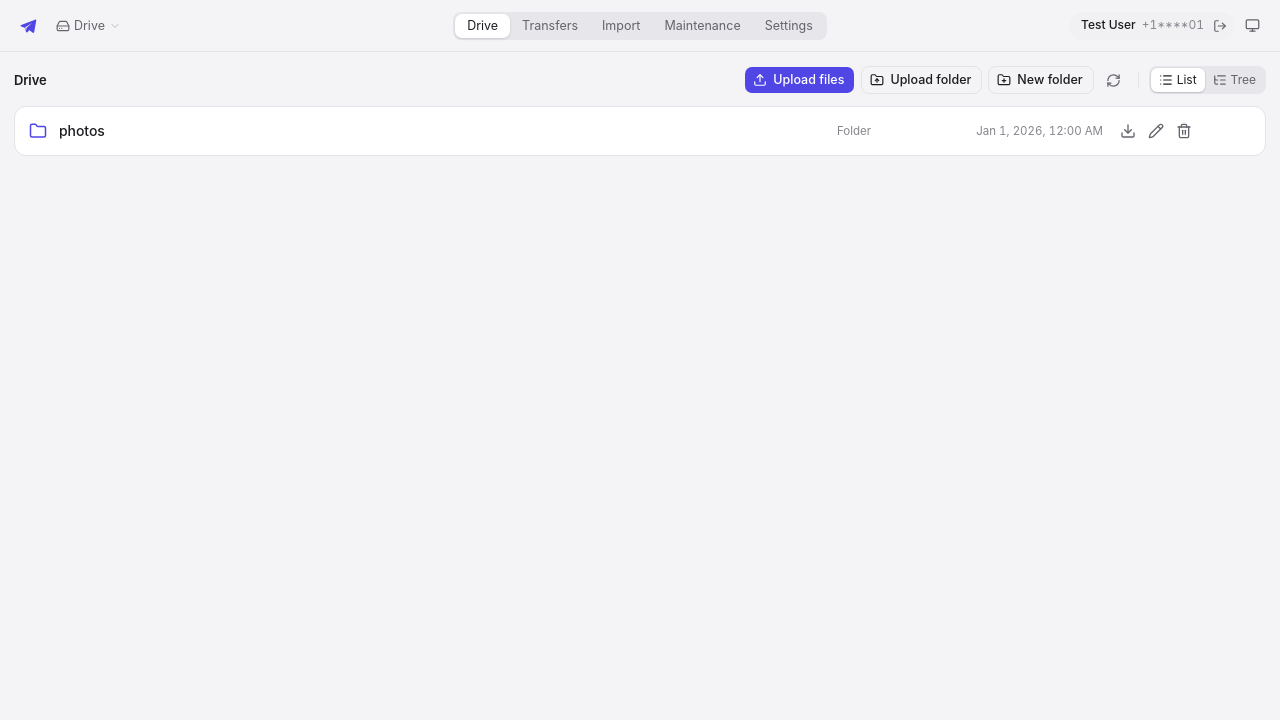
it: a folder download offers auto-rename and continuing past failures
Expected: the list is shown, x1=14 y1=106 x2=1266 y2=156
What coordinates should you click on to do the following:
click the button named "Download"
I would click on:
 (1128, 131)
Its box is x1=1115 y1=118 x2=1141 y2=144.
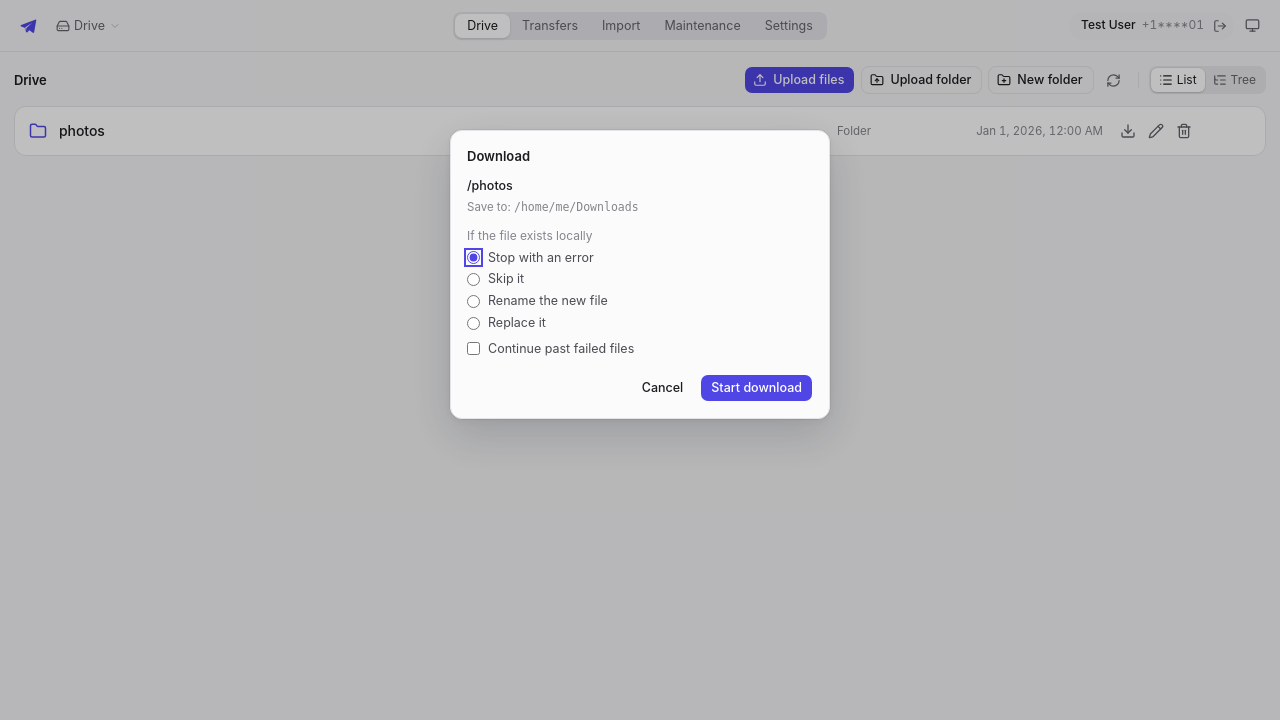
What coordinates should you click on to do the following:
click the radio button labelled "Rename the new file"
I would click on:
 (474, 301)
Its box is x1=467 y1=295 x2=480 y2=308.
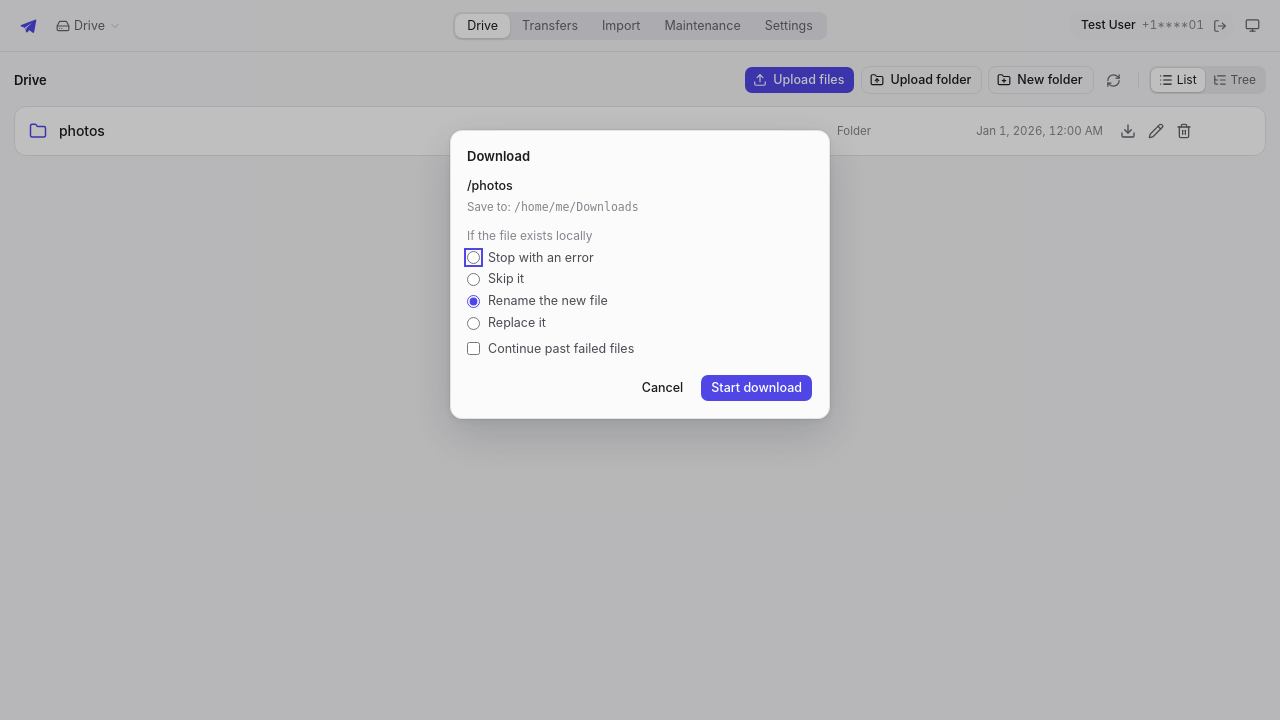
What coordinates should you click on to do the following:
click the checkbox labelled "Continue past failed files"
I would click on:
 (474, 349)
Its box is x1=467 y1=342 x2=480 y2=355.
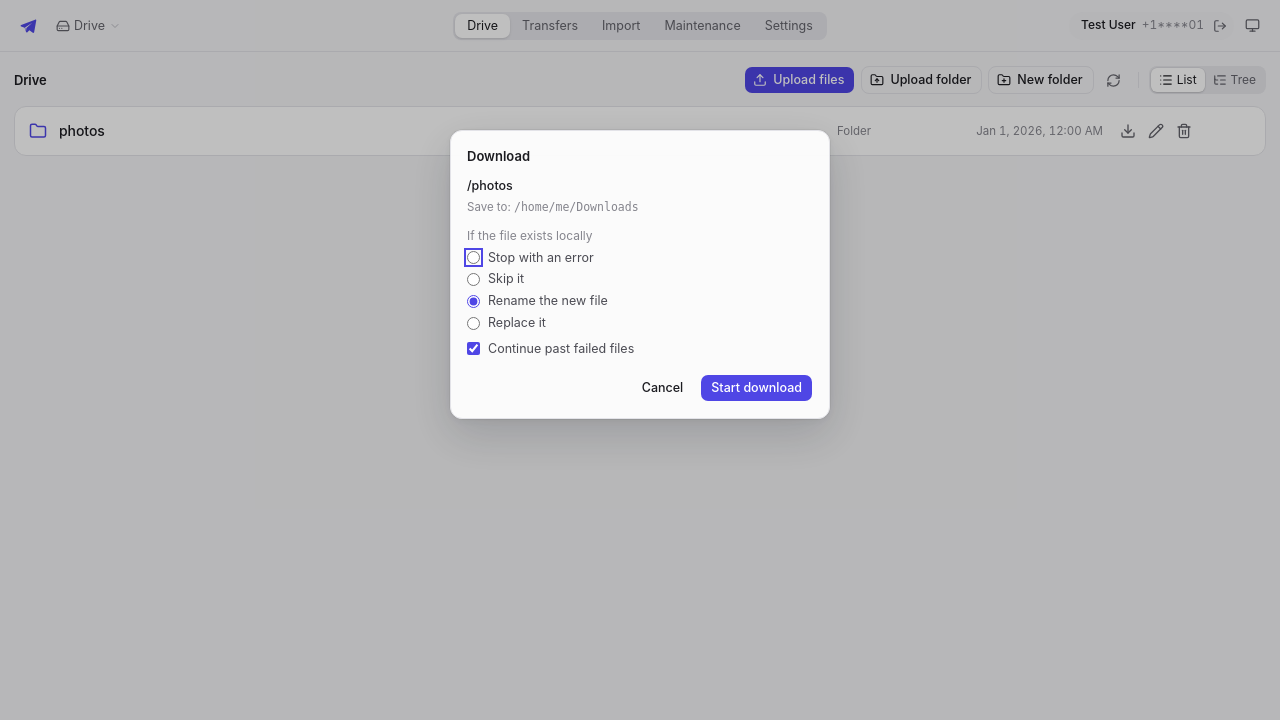
What coordinates should you click on to do the following:
click the button "Start download"
I would click on:
 (757, 388)
Its box is x1=700 y1=374 x2=813 y2=402.
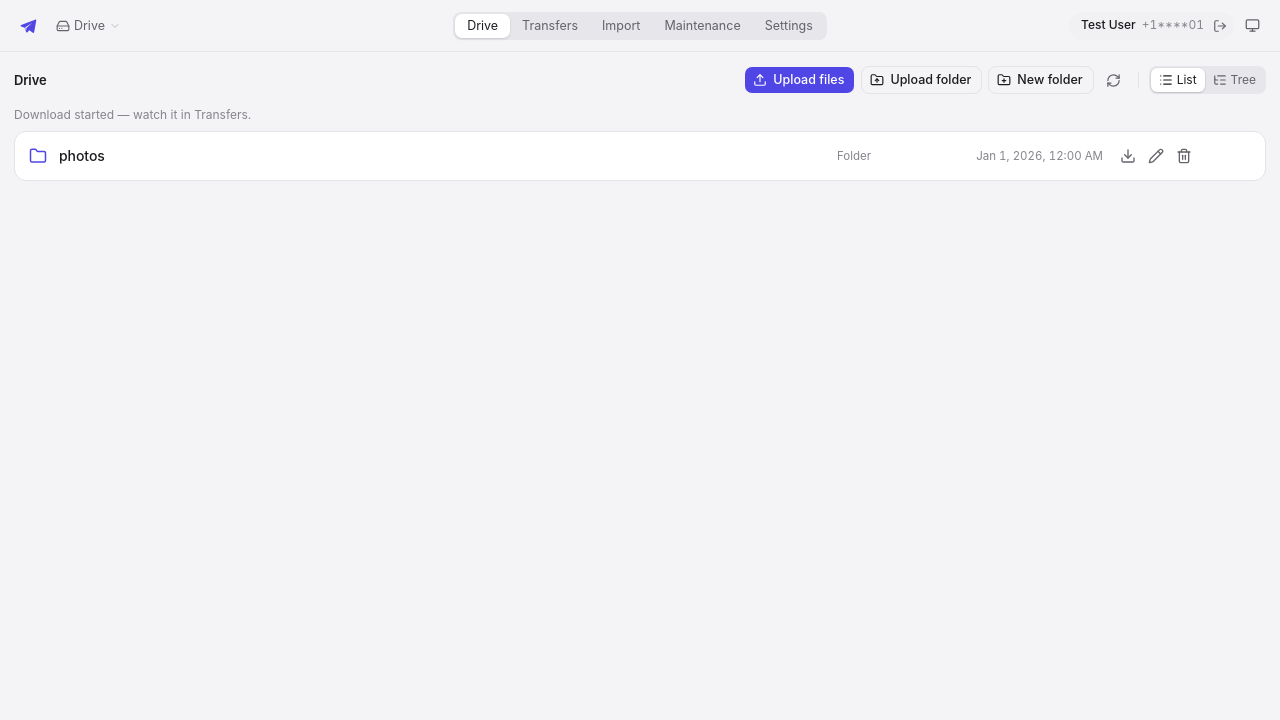
Expected: the text "Download started — watch it in Transfers." is shown, x1=14 y1=107 x2=251 y2=122
